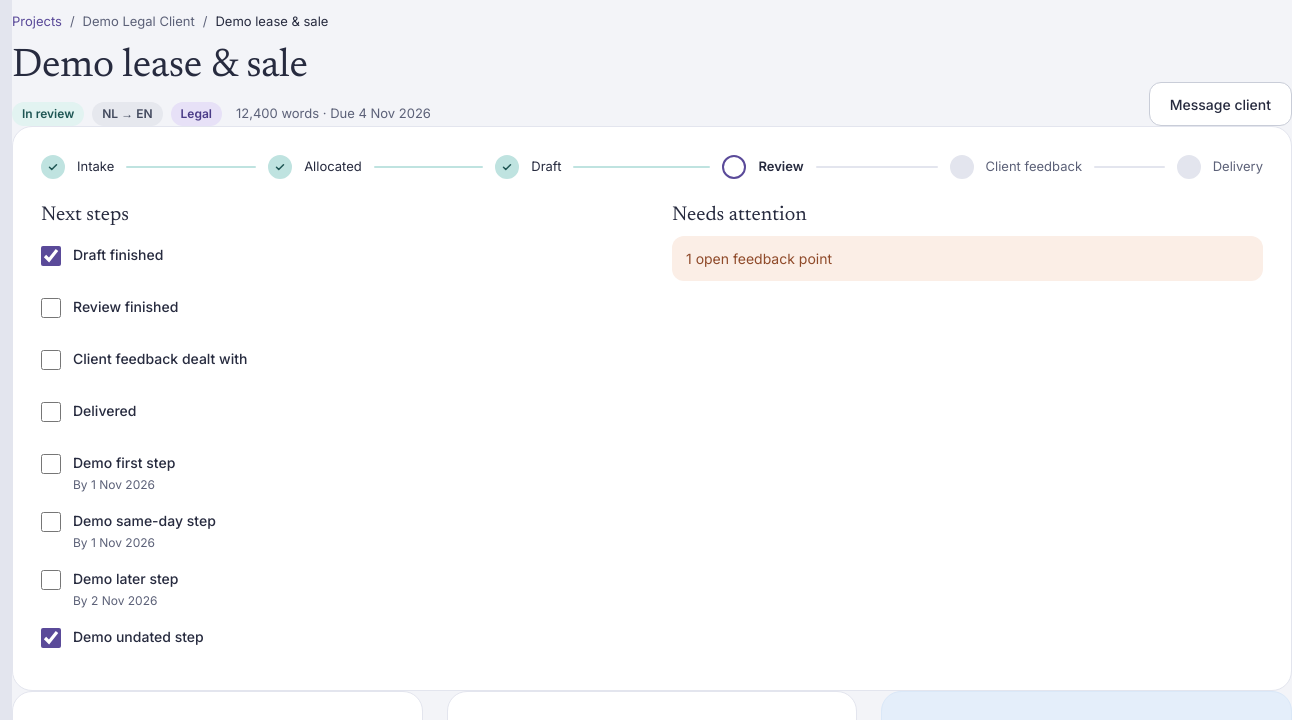
it: ProjectDetailView › sends completed_at null when a milestone is un-ticked
Click the checkbox labelled "Draft finished" at (51, 256), box [41, 246, 61, 266]
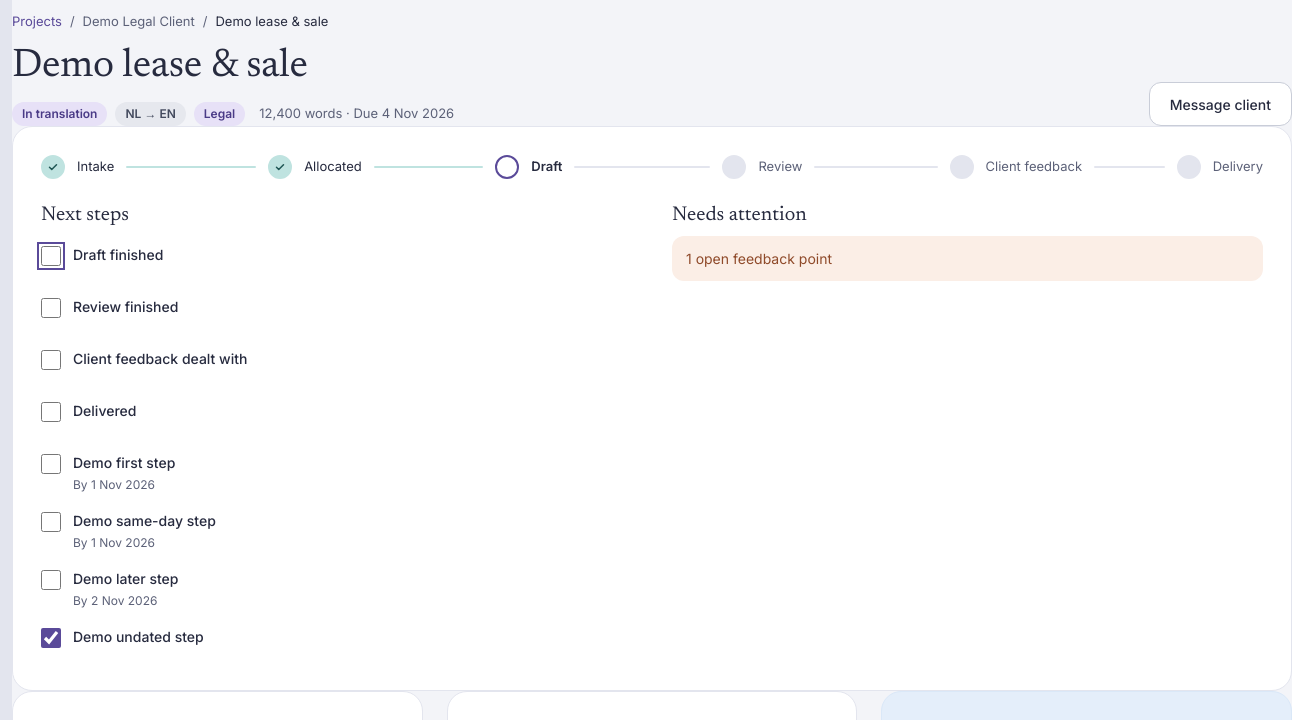
expect the text with class "chip" reads "In translation": met, box [22, 106, 98, 121]
